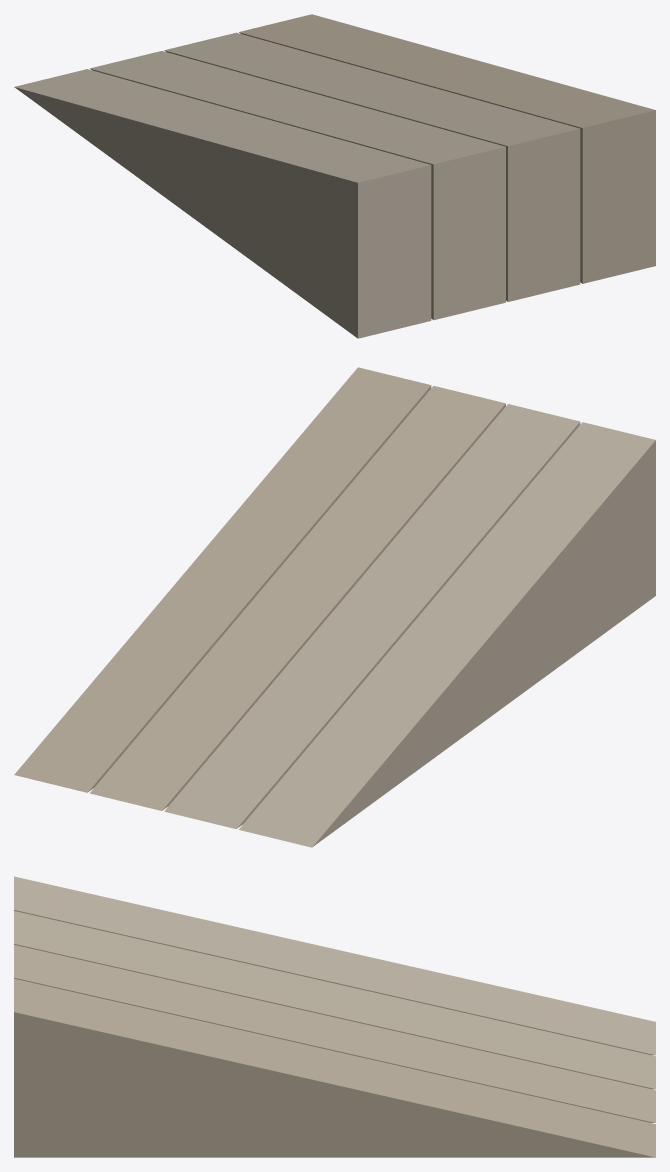
File: Ramp8.glb
The picture shows the model from 3 angles, top to bottom: view 1: azimuth 30°, elevation 25°; view 2: azimuth 150°, elevation 25°; view 3: azimuth 270°, elevation 25°; orthographic projection. The views are drawn at different scales.
Parts seen in each view (by area): view 1: Wood; view 2: Wood; view 3: Wood.
Part boxes in pixels (left/top/right/bottom): Wood: left=14, top=14, right=655, bottom=338; Wood: left=14, top=367, right=655, bottom=847; Wood: left=14, top=876, right=655, bottom=1157.
Size of what is drawn, in the model's own units: 4 by 2 by 8.
